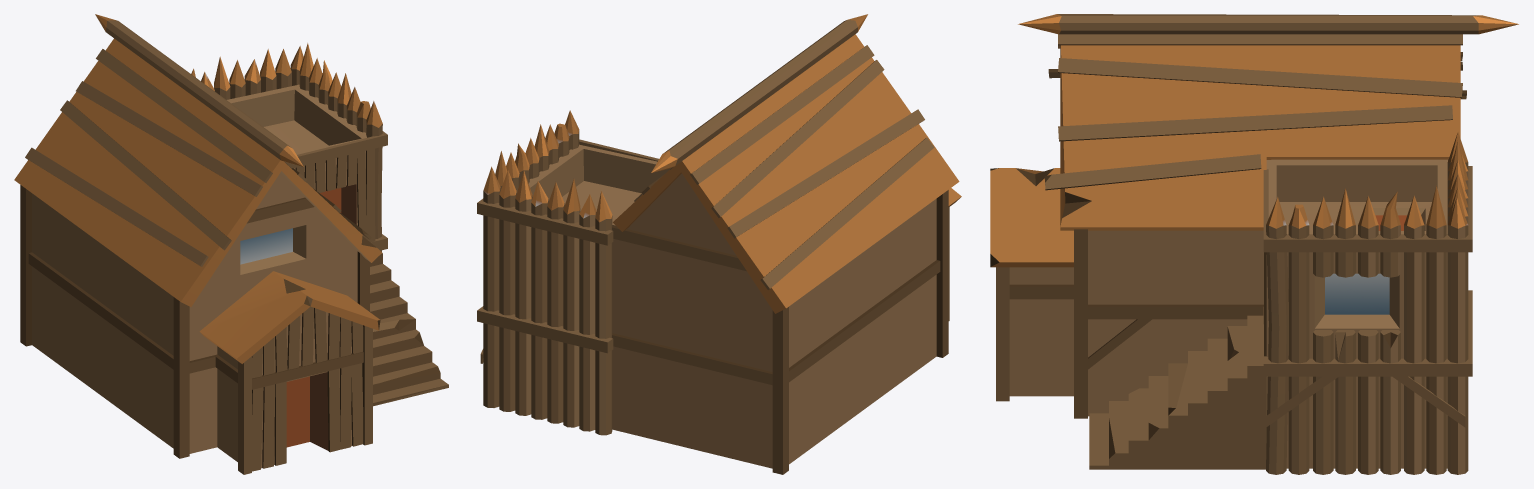
Rendered from Level1_WoodCastle.fbx.
3 views of the same model, side by side, from view 1: azimuth 30°, elevation 25°; view 2: azimuth 150°, elevation 25°; view 3: azimuth 270°, elevation 25° (orthographic). The views are drawn at different scales.
Parts seen in each view (by area): view 1: Cube.003; view 2: Cube.003; view 3: Cube.003.
Boxes of the visible parts, x1=… form: Cube.003: x1=14, y1=14, x2=448, y2=474; Cube.003: x1=477, y1=14, x2=961, y2=474; Cube.003: x1=990, y1=14, x2=1518, y2=474.
Bounding box in the file's own units: 1139 × 1092 × 1489.
